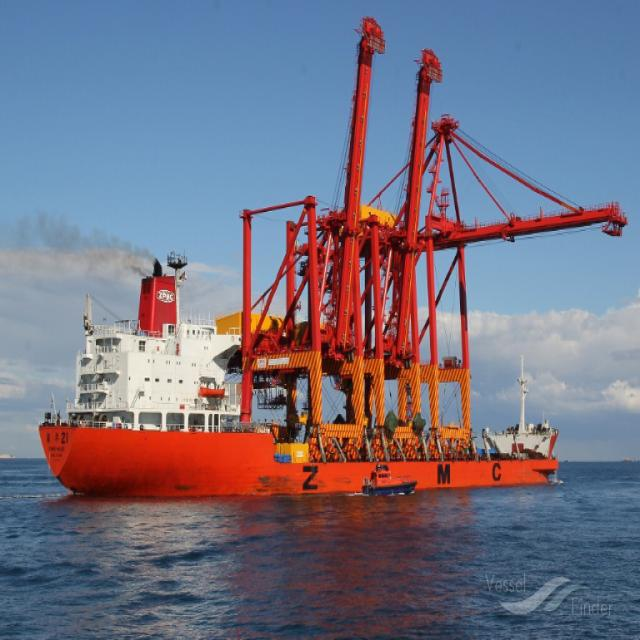OCR: (299, 454, 522, 493)
